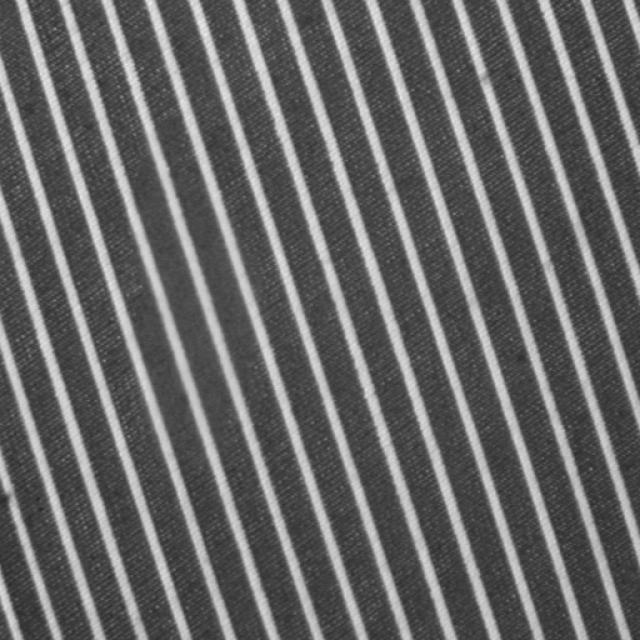Stain-Defect: (122, 170, 273, 480)
